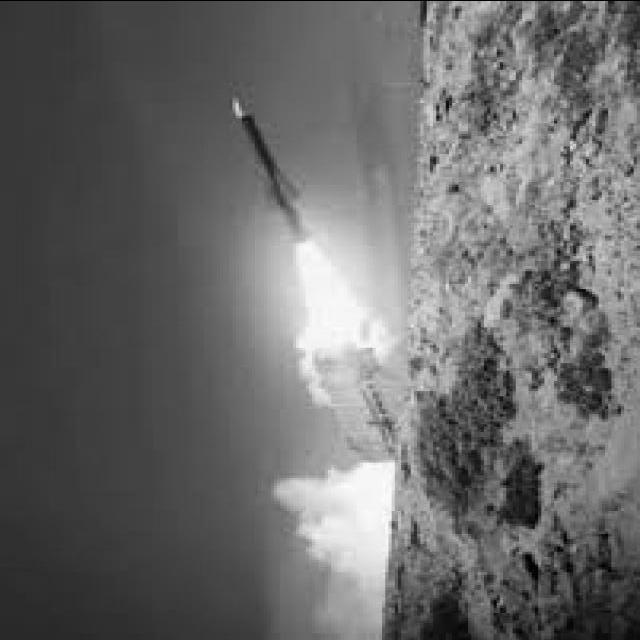Missile: (223, 93, 318, 258)
